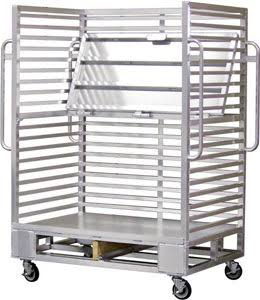Carts: (2, 2, 260, 300)
